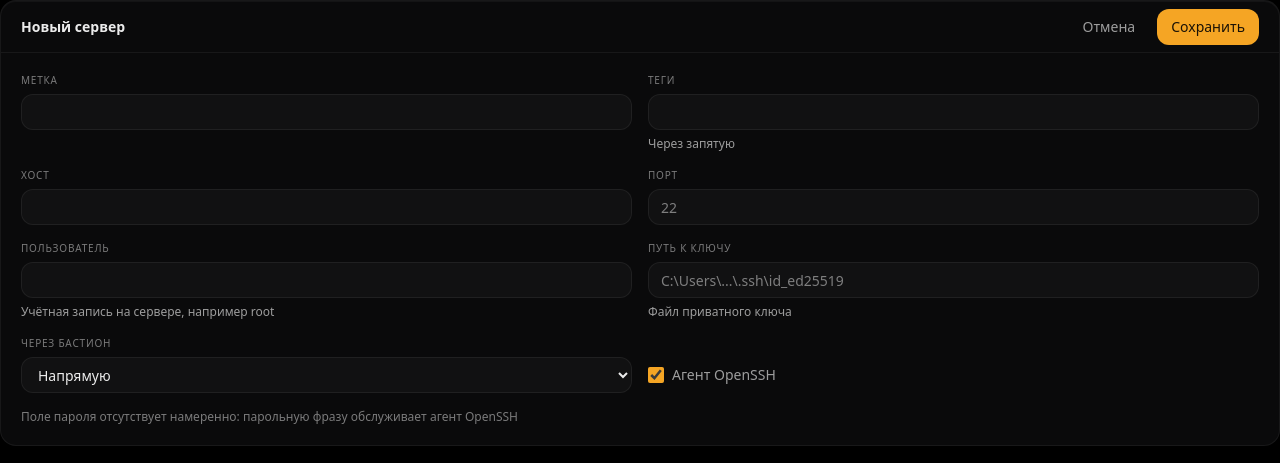
Test case: порт › принимает только цифры
The width and height of the screenshot is (1280, 463).
In the field labelled "Порт": [954, 207] box [648,189,1259,225], type "2a2b"
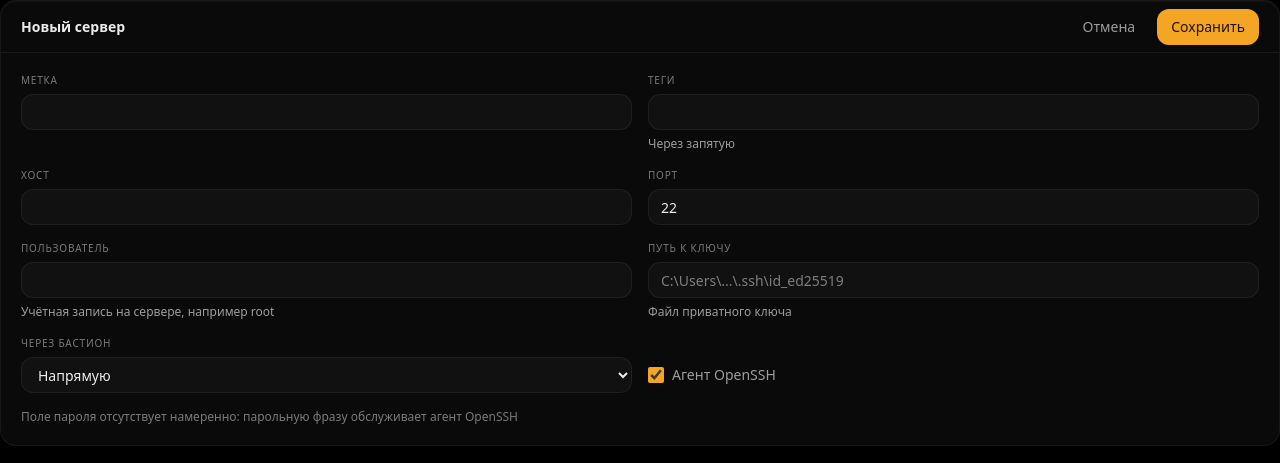
Check: the field labelled "Порт" holds "22", box [648,189,1259,225]
